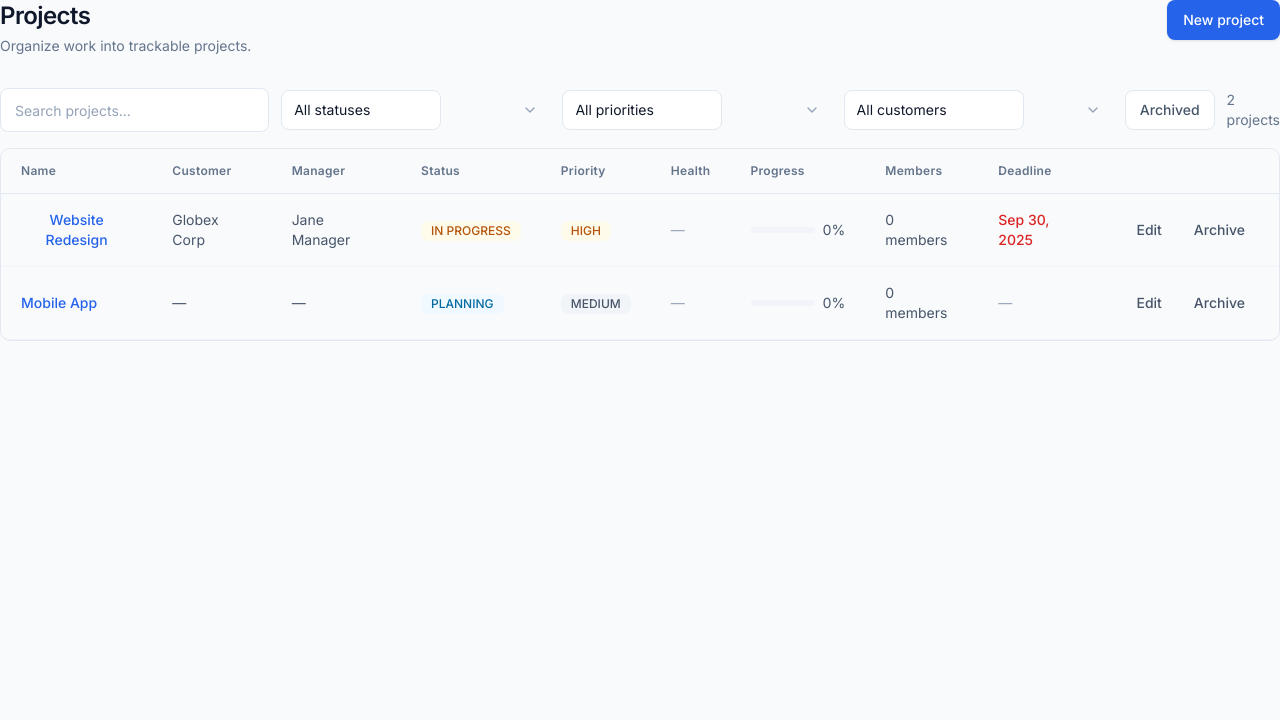
ProjectsPage › Edit button opens edit modal with project data
Expected: the button "Website Redesign" is shown, [21,210,132,250]
What coordinates should you click on to do the following:
click the button "Edit" in the row of "Globex Corp"
I would click on:
 (1149, 230)
Its box is [1122,214,1176,246].
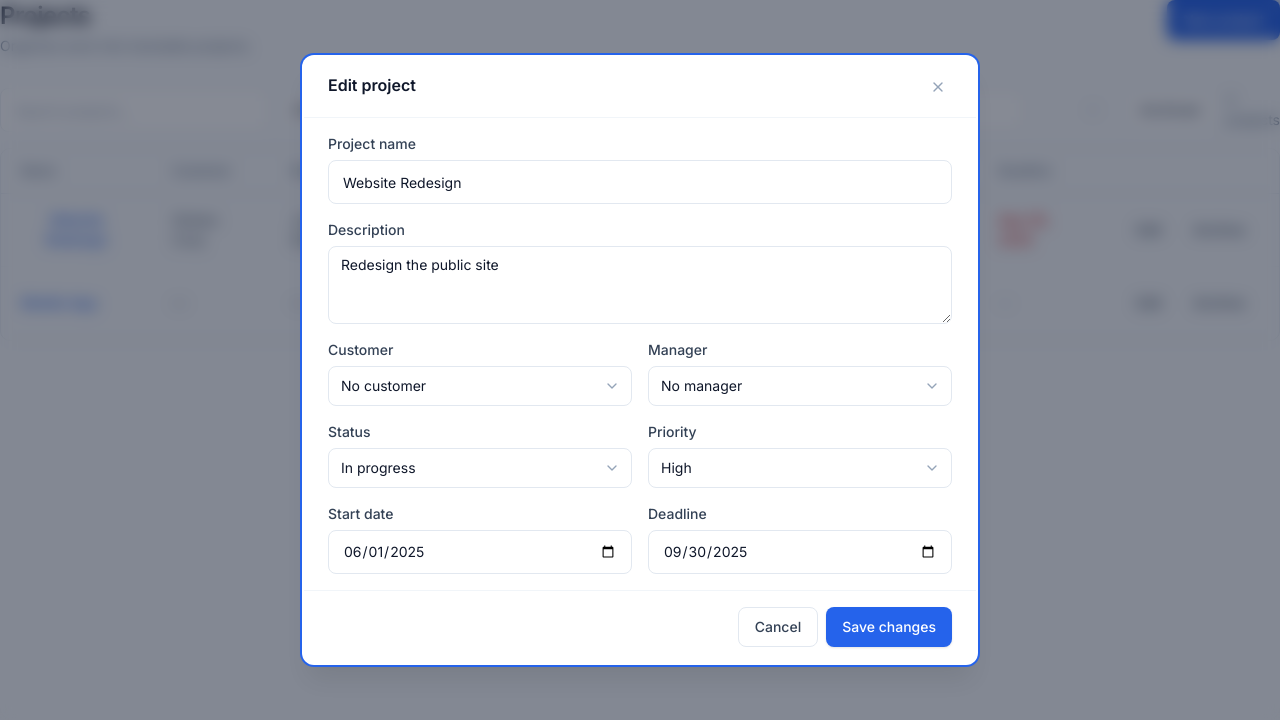
Expected: the dialog is shown, [304,57,976,663]
Expected: the heading "Edit project" is shown, [328,73,416,97]
Expected: the field showing "Website Redesign" is shown, [328,160,952,204]
